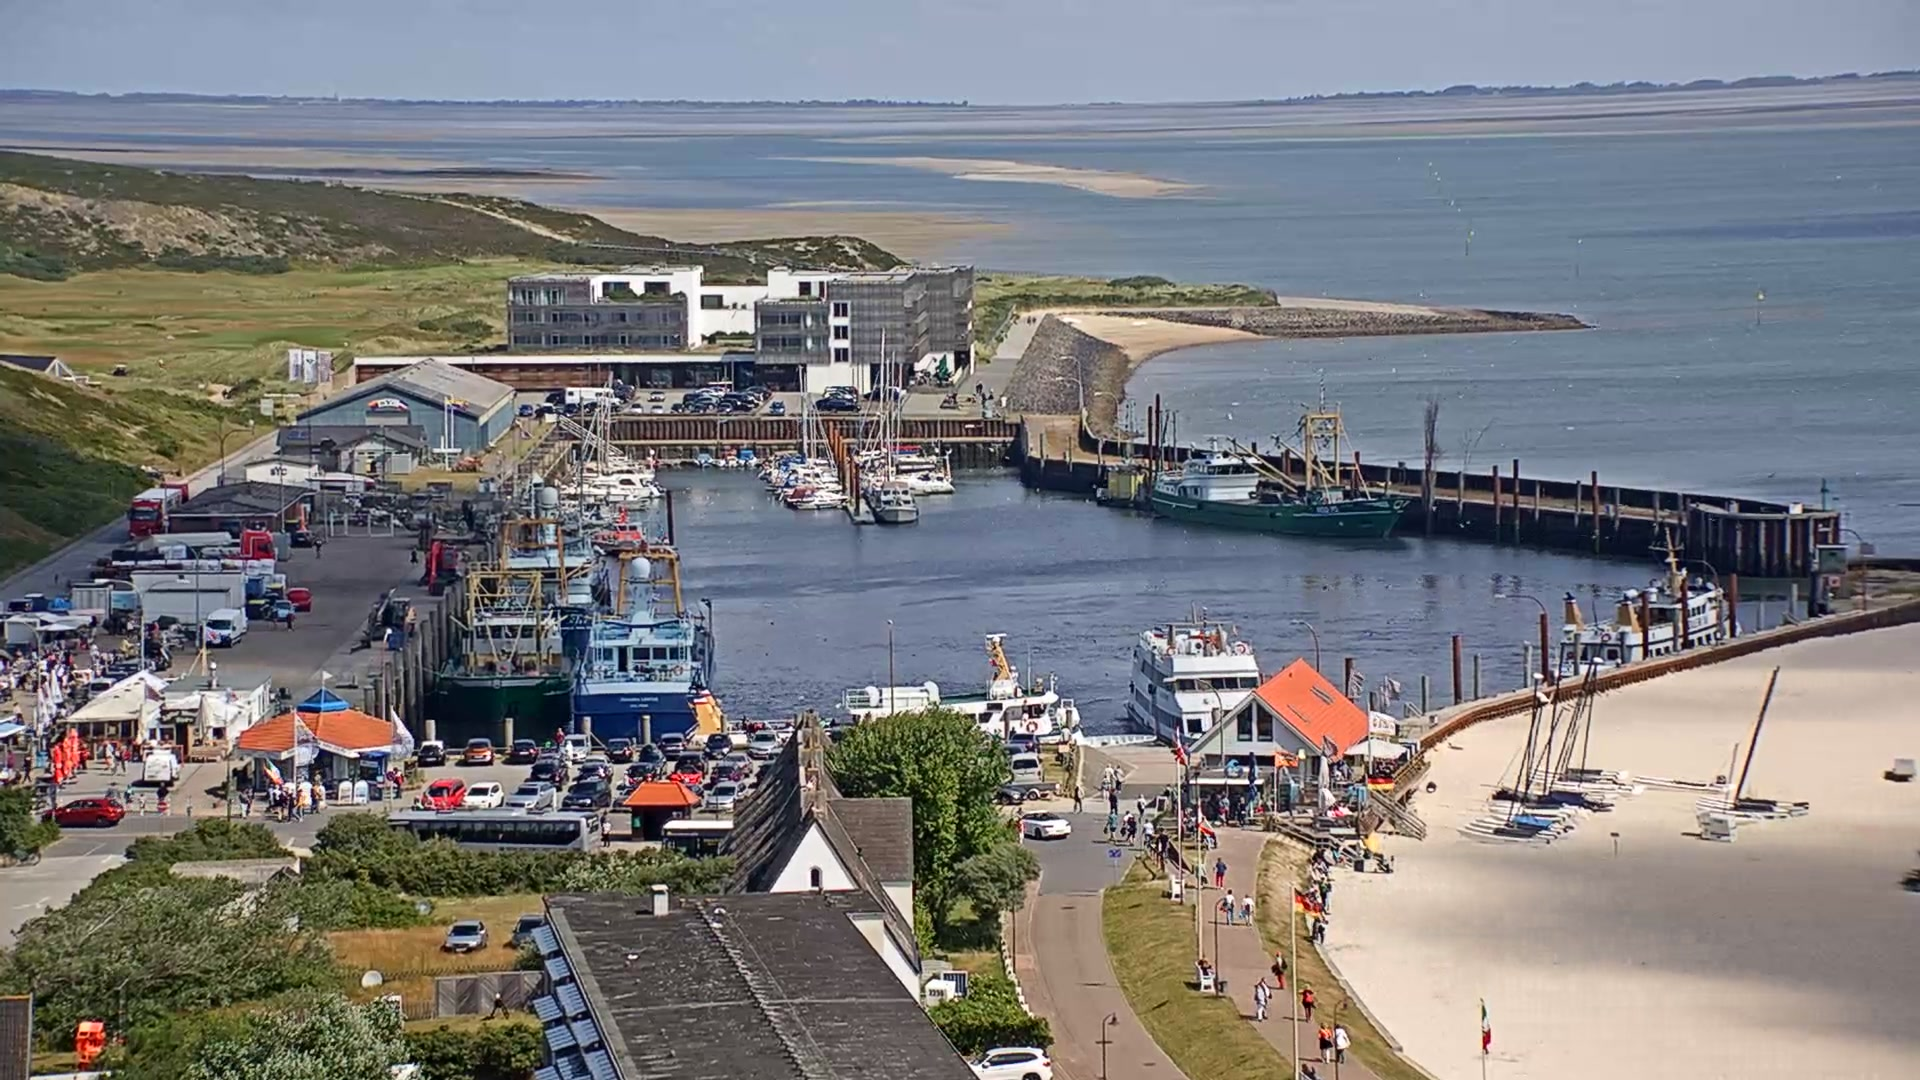human: (1253, 976, 1271, 1022), (1330, 1022, 1350, 1063), (1217, 888, 1235, 926), (1316, 1019, 1332, 1063), (1299, 980, 1315, 1022), (1271, 950, 1287, 989), (1216, 790, 1230, 825), (309, 781, 323, 815), (1310, 848, 1329, 873), (1241, 893, 1255, 926), (1102, 763, 1115, 795), (1214, 855, 1227, 888), (294, 785, 304, 821), (102, 740, 113, 772), (1121, 809, 1132, 844), (21, 754, 33, 784), (118, 745, 129, 775), (1104, 812, 1116, 842), (1142, 817, 1154, 846), (1236, 796, 1247, 826), (1195, 858, 1207, 888), (1325, 879, 1334, 915), (1073, 782, 1084, 812), (264, 784, 274, 814), (238, 788, 248, 818), (273, 784, 283, 814), (33, 738, 44, 767), (124, 785, 135, 812), (286, 790, 295, 822), (393, 766, 402, 798), (1100, 773, 1110, 800), (1317, 877, 1326, 908), (105, 780, 120, 800), (12, 700, 24, 724), (1127, 816, 1138, 842), (1299, 1061, 1315, 1079), (601, 818, 611, 847), (1115, 764, 1125, 793), (1159, 827, 1169, 856), (155, 781, 168, 803), (1109, 790, 1119, 815), (563, 737, 572, 765), (88, 615, 97, 640), (555, 726, 564, 751), (246, 784, 254, 814), (137, 791, 146, 815), (1311, 917, 1320, 940), (149, 620, 159, 640), (1137, 792, 1146, 815), (207, 655, 215, 679), (599, 810, 607, 833), (1331, 847, 1343, 863), (1317, 922, 1325, 944), (410, 546, 419, 565), (286, 611, 294, 632), (738, 712, 748, 729), (6, 749, 15, 768), (622, 771, 631, 787), (1333, 804, 1345, 816), (1326, 803, 1337, 816), (315, 537, 322, 557), (1026, 313, 1032, 326), (975, 382, 980, 394), (1031, 315, 1037, 326), (978, 381, 983, 394)
land: (965, 1046, 1052, 1080), (127, 487, 180, 537), (42, 797, 125, 827), (417, 542, 459, 596), (201, 608, 248, 649), (442, 919, 488, 953), (419, 776, 466, 810), (1019, 810, 1071, 840), (226, 528, 276, 558), (505, 781, 555, 810), (563, 778, 611, 809), (528, 756, 569, 790), (704, 780, 748, 812), (142, 752, 179, 786), (511, 912, 546, 947), (1007, 750, 1042, 784), (564, 386, 619, 408), (461, 780, 503, 809), (748, 728, 779, 760), (655, 732, 688, 760), (464, 736, 494, 765), (560, 734, 592, 762), (703, 732, 734, 760), (672, 751, 708, 775), (509, 737, 539, 763), (604, 737, 633, 763), (638, 750, 668, 775), (722, 751, 753, 777), (624, 760, 657, 782), (709, 762, 743, 785), (417, 740, 445, 766), (993, 783, 1027, 804), (577, 764, 613, 783), (285, 586, 313, 611), (1008, 732, 1039, 753), (86, 676, 116, 698), (723, 391, 757, 407), (862, 386, 900, 401), (719, 397, 752, 411), (272, 599, 294, 620), (683, 394, 719, 408), (823, 386, 858, 400), (291, 529, 315, 547), (533, 751, 560, 767), (744, 385, 772, 400), (583, 753, 611, 767), (826, 399, 859, 412), (1000, 742, 1026, 755), (694, 386, 722, 397), (1, 648, 15, 668), (769, 399, 786, 415), (648, 389, 666, 401), (717, 401, 734, 413), (688, 402, 707, 413), (629, 402, 644, 415), (545, 391, 561, 404), (519, 403, 534, 416), (670, 402, 685, 413), (563, 402, 578, 412), (650, 403, 664, 413), (542, 402, 554, 413)
sea: (1148, 376, 1413, 538), (433, 512, 588, 745), (1526, 525, 1742, 678), (572, 532, 715, 747), (838, 631, 1081, 737), (1123, 600, 1259, 751), (1695, 666, 1809, 823), (1455, 670, 1556, 845), (1697, 665, 1812, 816), (859, 325, 953, 493), (1473, 688, 1574, 834), (499, 485, 611, 616), (1525, 641, 1628, 780), (568, 368, 667, 497), (772, 391, 838, 482), (868, 480, 919, 523), (590, 520, 643, 555), (783, 488, 848, 509), (641, 450, 663, 510), (736, 449, 757, 466), (714, 453, 737, 467), (691, 452, 712, 467)
